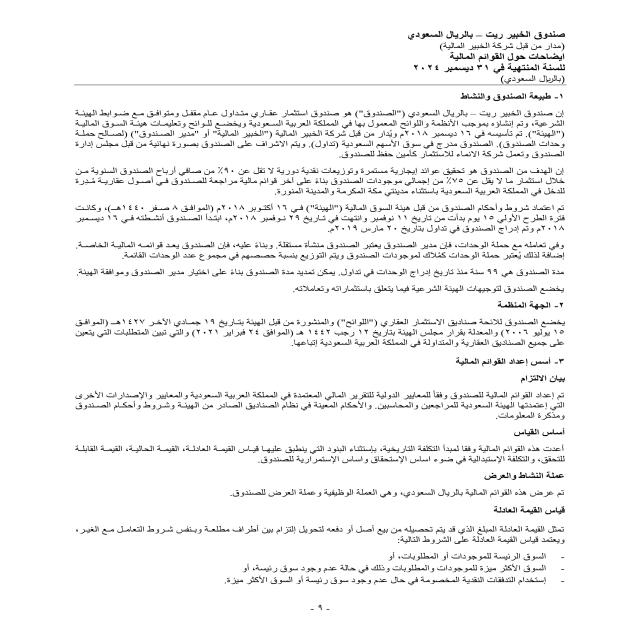notes: (442, 52, 573, 64)
text: (25, 88, 571, 600)
